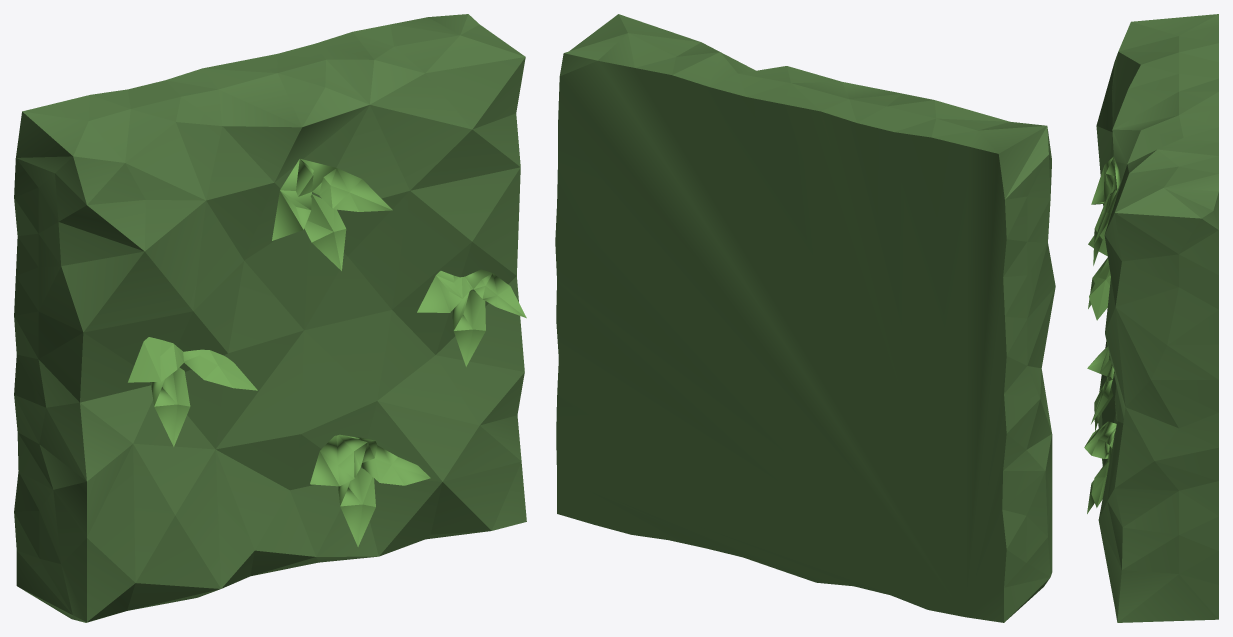
The model's file is BushLeaf.fbx.
The picture shows the model from 3 angles, left to right: view 1: azimuth 30°, elevation 25°; view 2: azimuth 150°, elevation 25°; view 3: azimuth 270°, elevation 25°; orthographic projection. The views are drawn at different scales.
Parts seen in each view (by area): view 1: BushLeaf; view 2: BushLeaf; view 3: BushLeaf.
Boxes of the visible parts, x1=… form: BushLeaf: x1=14, y1=14, x2=526, y2=622; BushLeaf: x1=555, y1=14, x2=1055, y2=622; BushLeaf: x1=1084, y1=14, x2=1218, y2=622.
Bounding box in the file's own units: 99.8 × 29.04 × 99.8.
